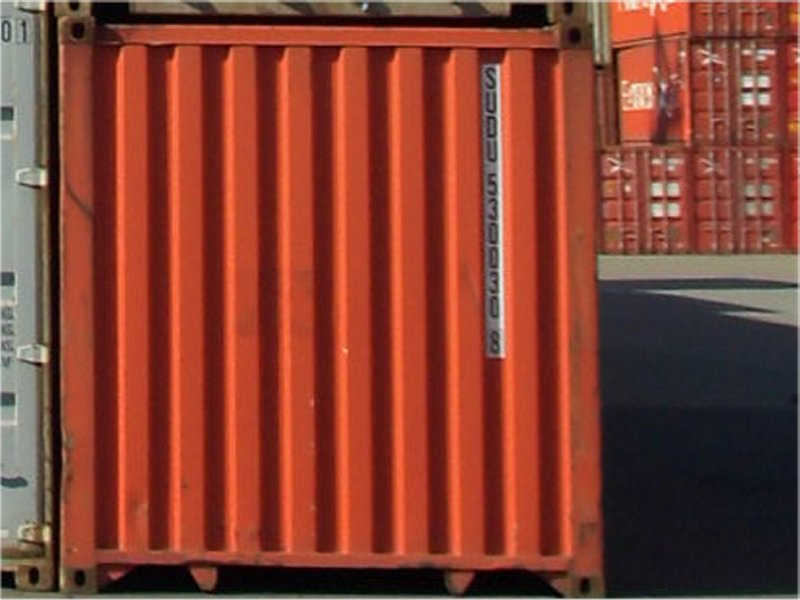container_no_door: (61, 8, 605, 594)
